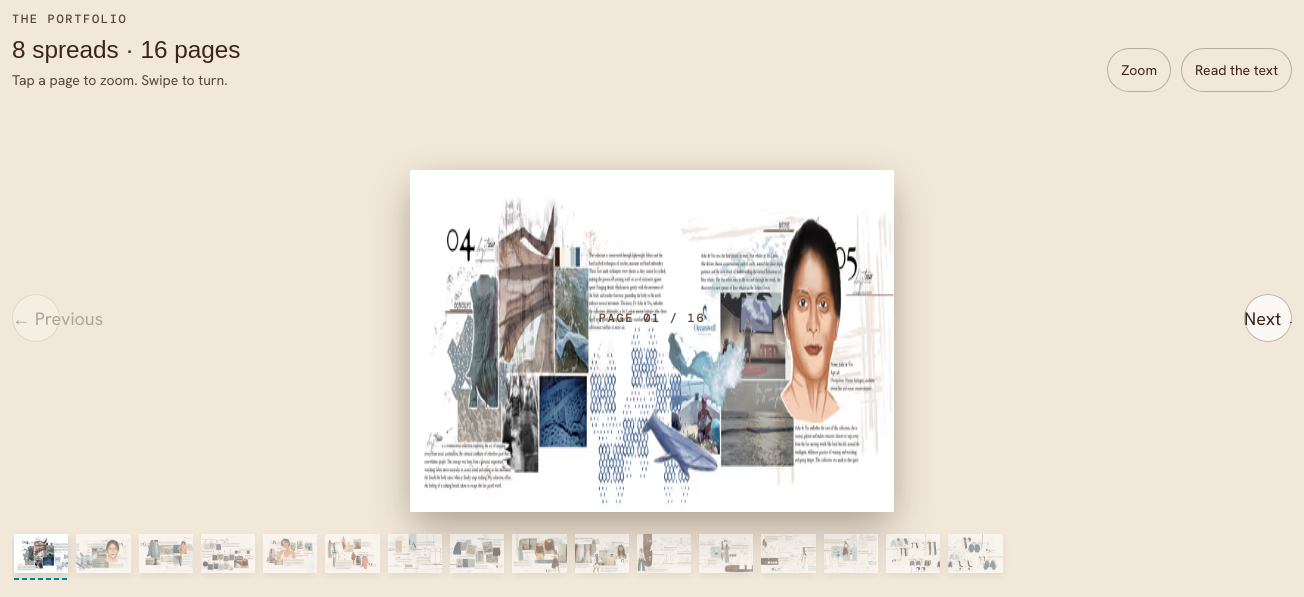
Test: phone: spreads become single pages
Expected: the heading reads "8 spreads · 16 pages", [12, 36, 240, 63]
Click the button with aria-label "Next page" at (1268, 318), box [1244, 294, 1292, 342]
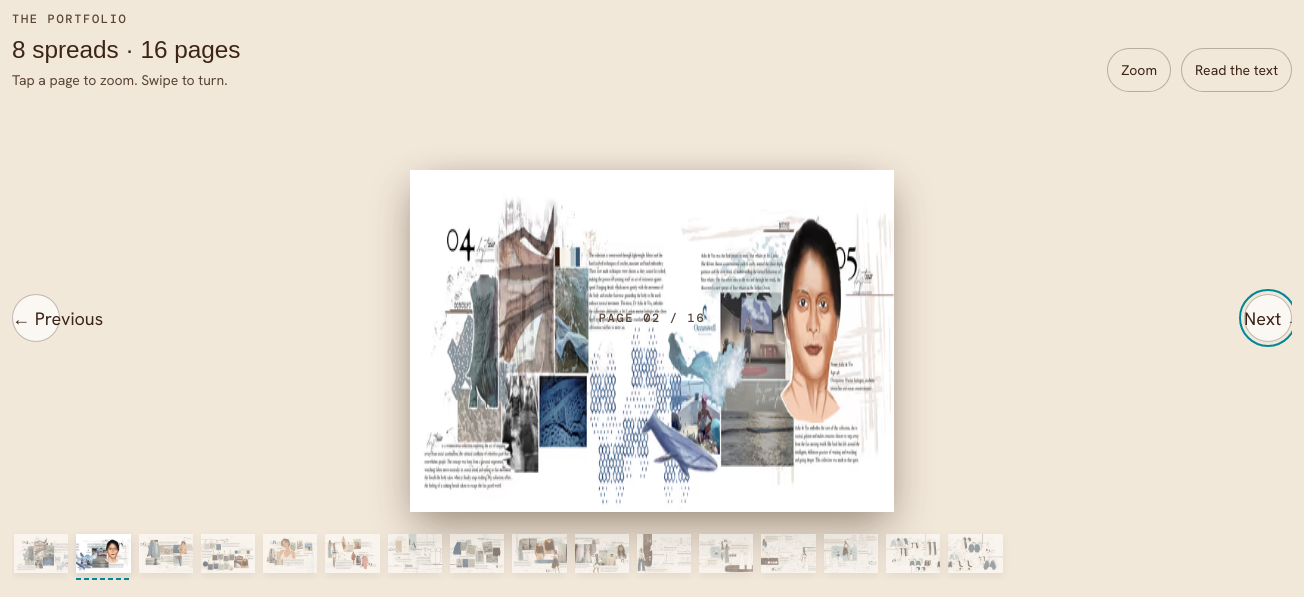
Expected: the text "Page 02 / 16" is shown, [599, 311, 705, 325]
